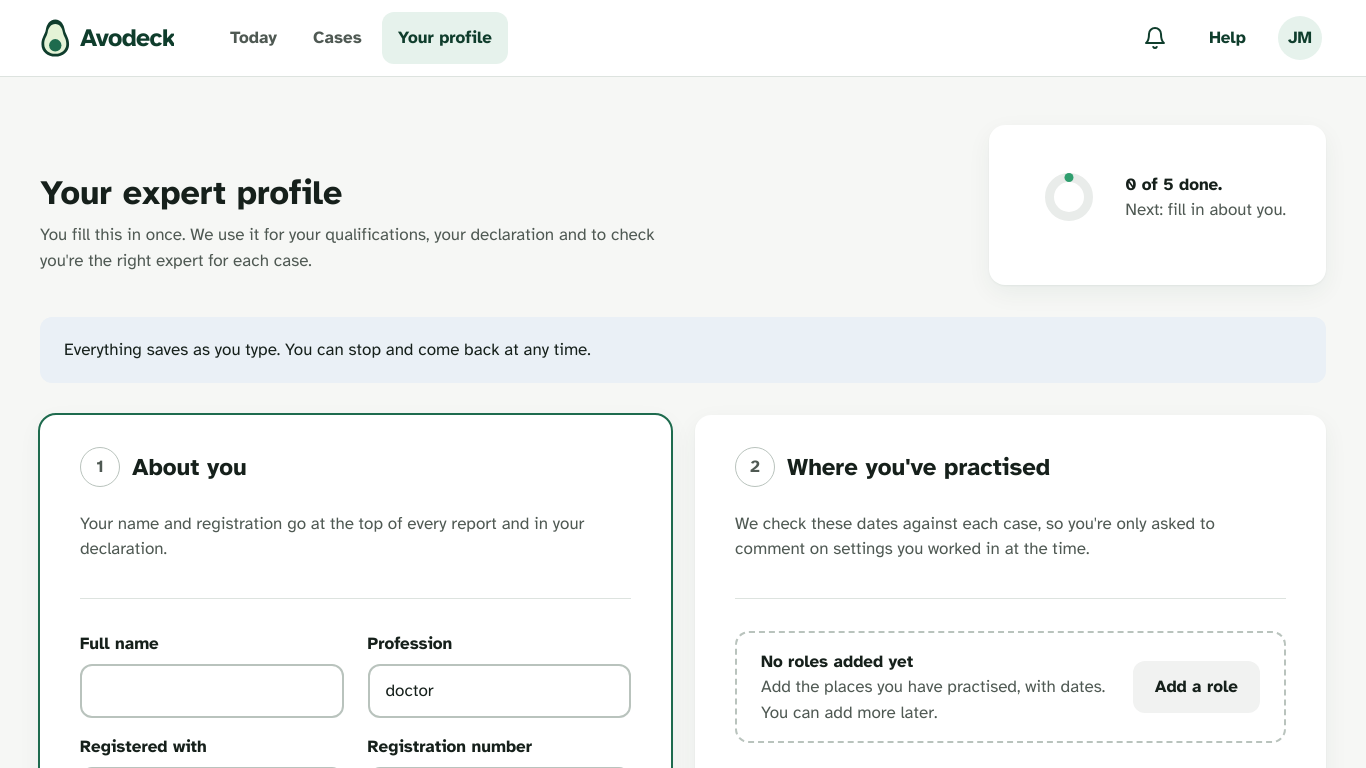
empty cards show a dashed box with an Add button that opens the form
The image size is (1366, 768).
Check: the text "No roles added yet" is shown, box [761,650,913,672]
Click the button "Add a role". click: [1196, 687]
box: [1133,661,1260,713]
(page scrolled)
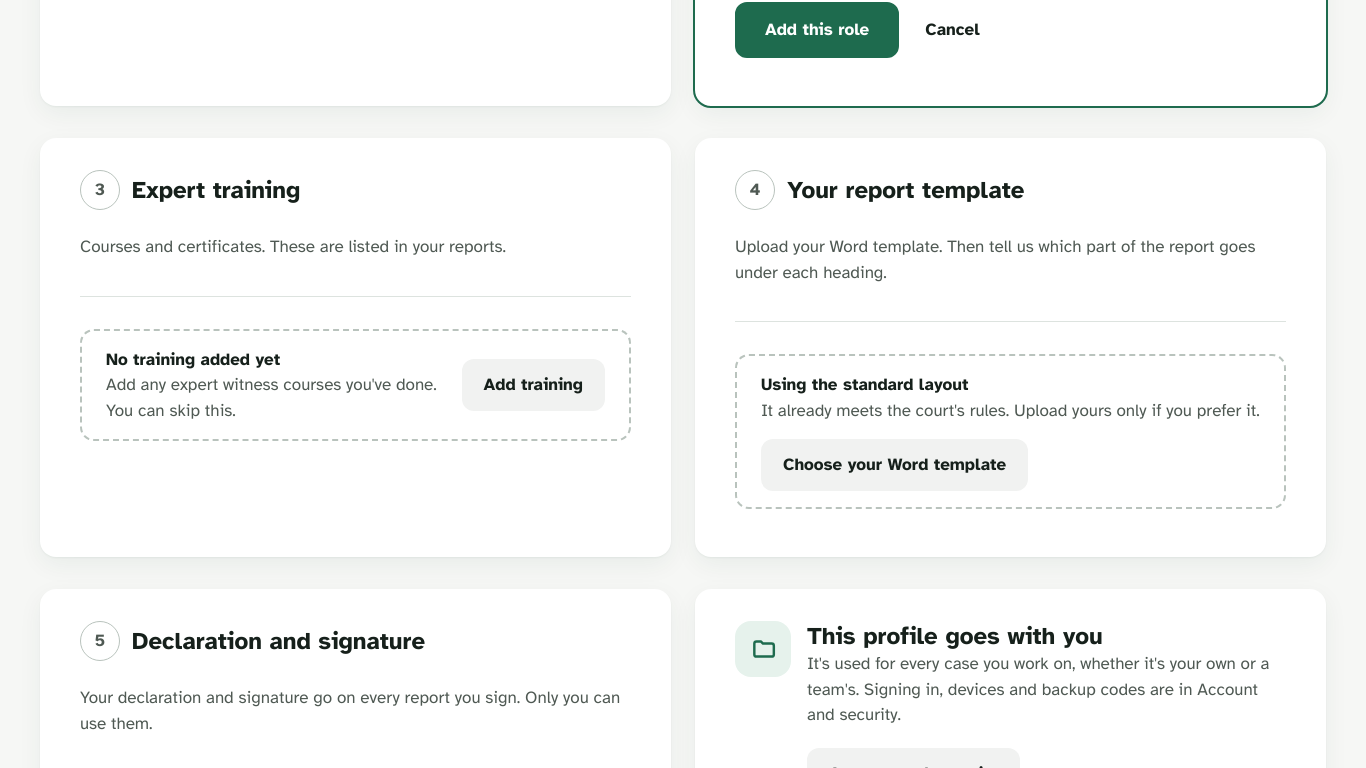
Check: the text "No training added yet" is shown, box [106,348,280,370]
Check: the field labelled "Course name" is not shown
Click the button "Add training". click: [533, 385]
box: [462,359,605,411]
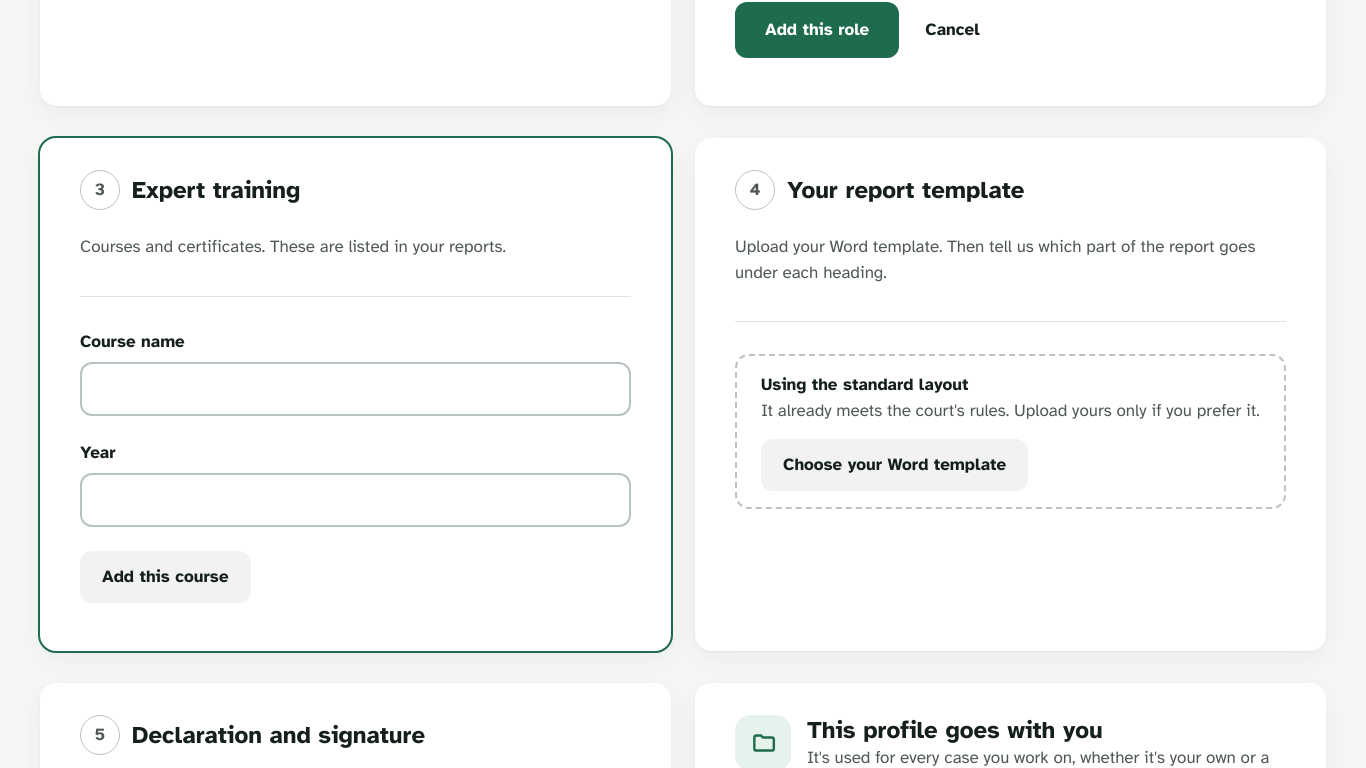
Check: the text "Using the standard layout" is shown, box [761,374,968,395]
Check: the field labelled "Course name" is shown, box [80,362,631,416]
